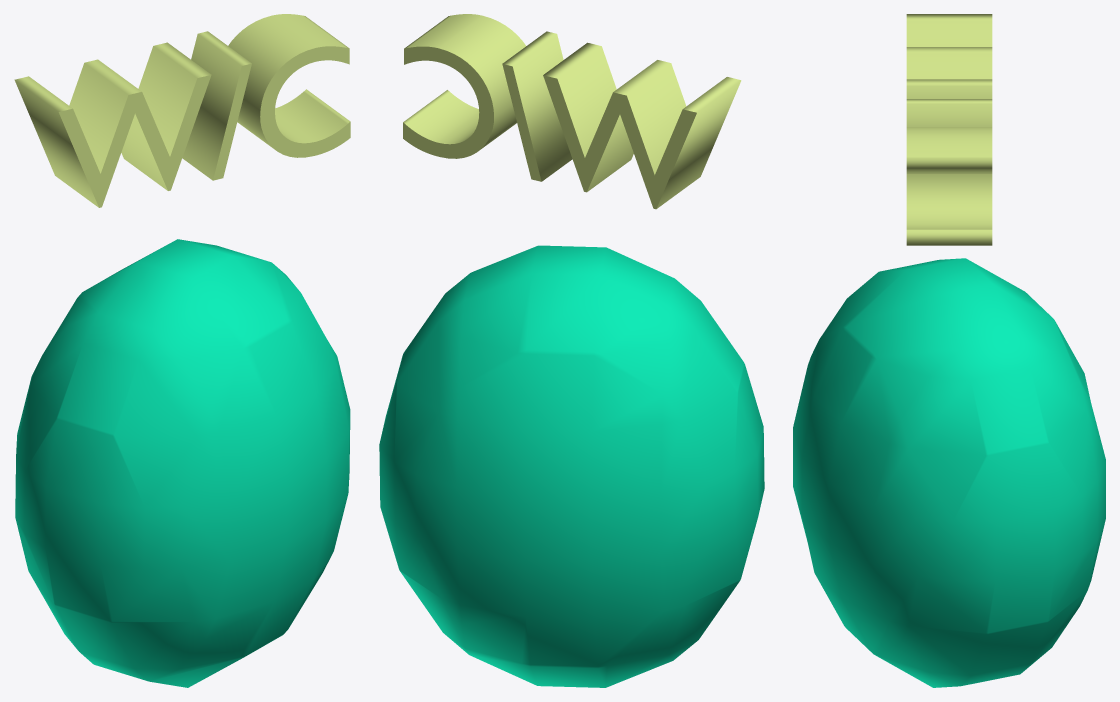
File: toileticon.fbx
3 renders of one model, left to right at view 1: azimuth 30°, elevation 25°; view 2: azimuth 150°, elevation 25°; view 3: azimuth 270°, elevation 25°, orthographic. The views are drawn at different scales.
Visible parts, largest first — view 1: Text; view 2: Text; view 3: Text.
Boxes of the visible parts, box(x1,y1,x2,y2) form: Text: box(14, 14, 350, 687); Text: box(379, 14, 764, 687); Text: box(793, 14, 1105, 687).
Bounding box in the file's own units: 219 × 396 × 191.
